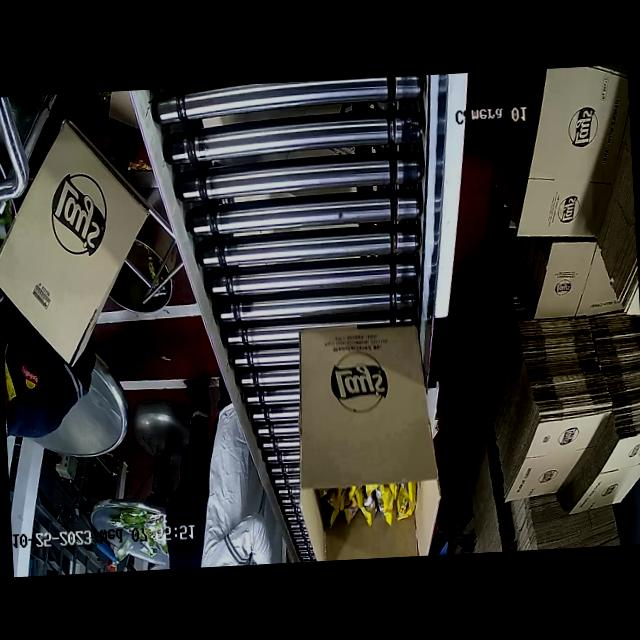salted: (322, 478, 424, 535)
